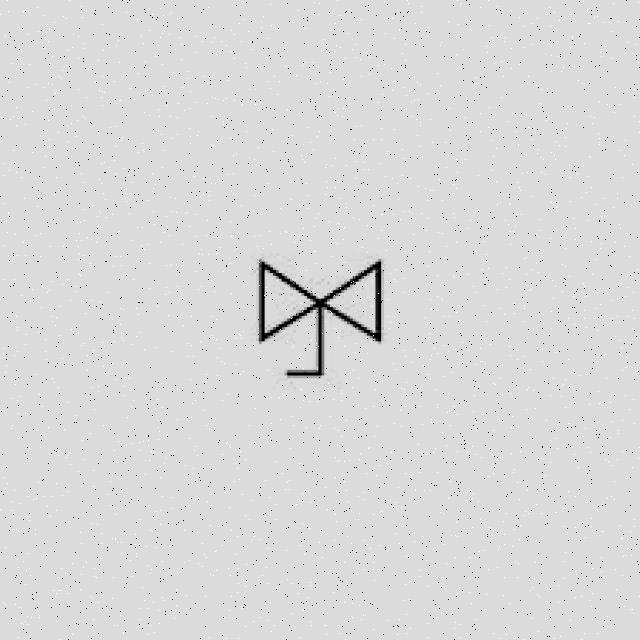Cock Valve: (208, 199, 440, 437)
